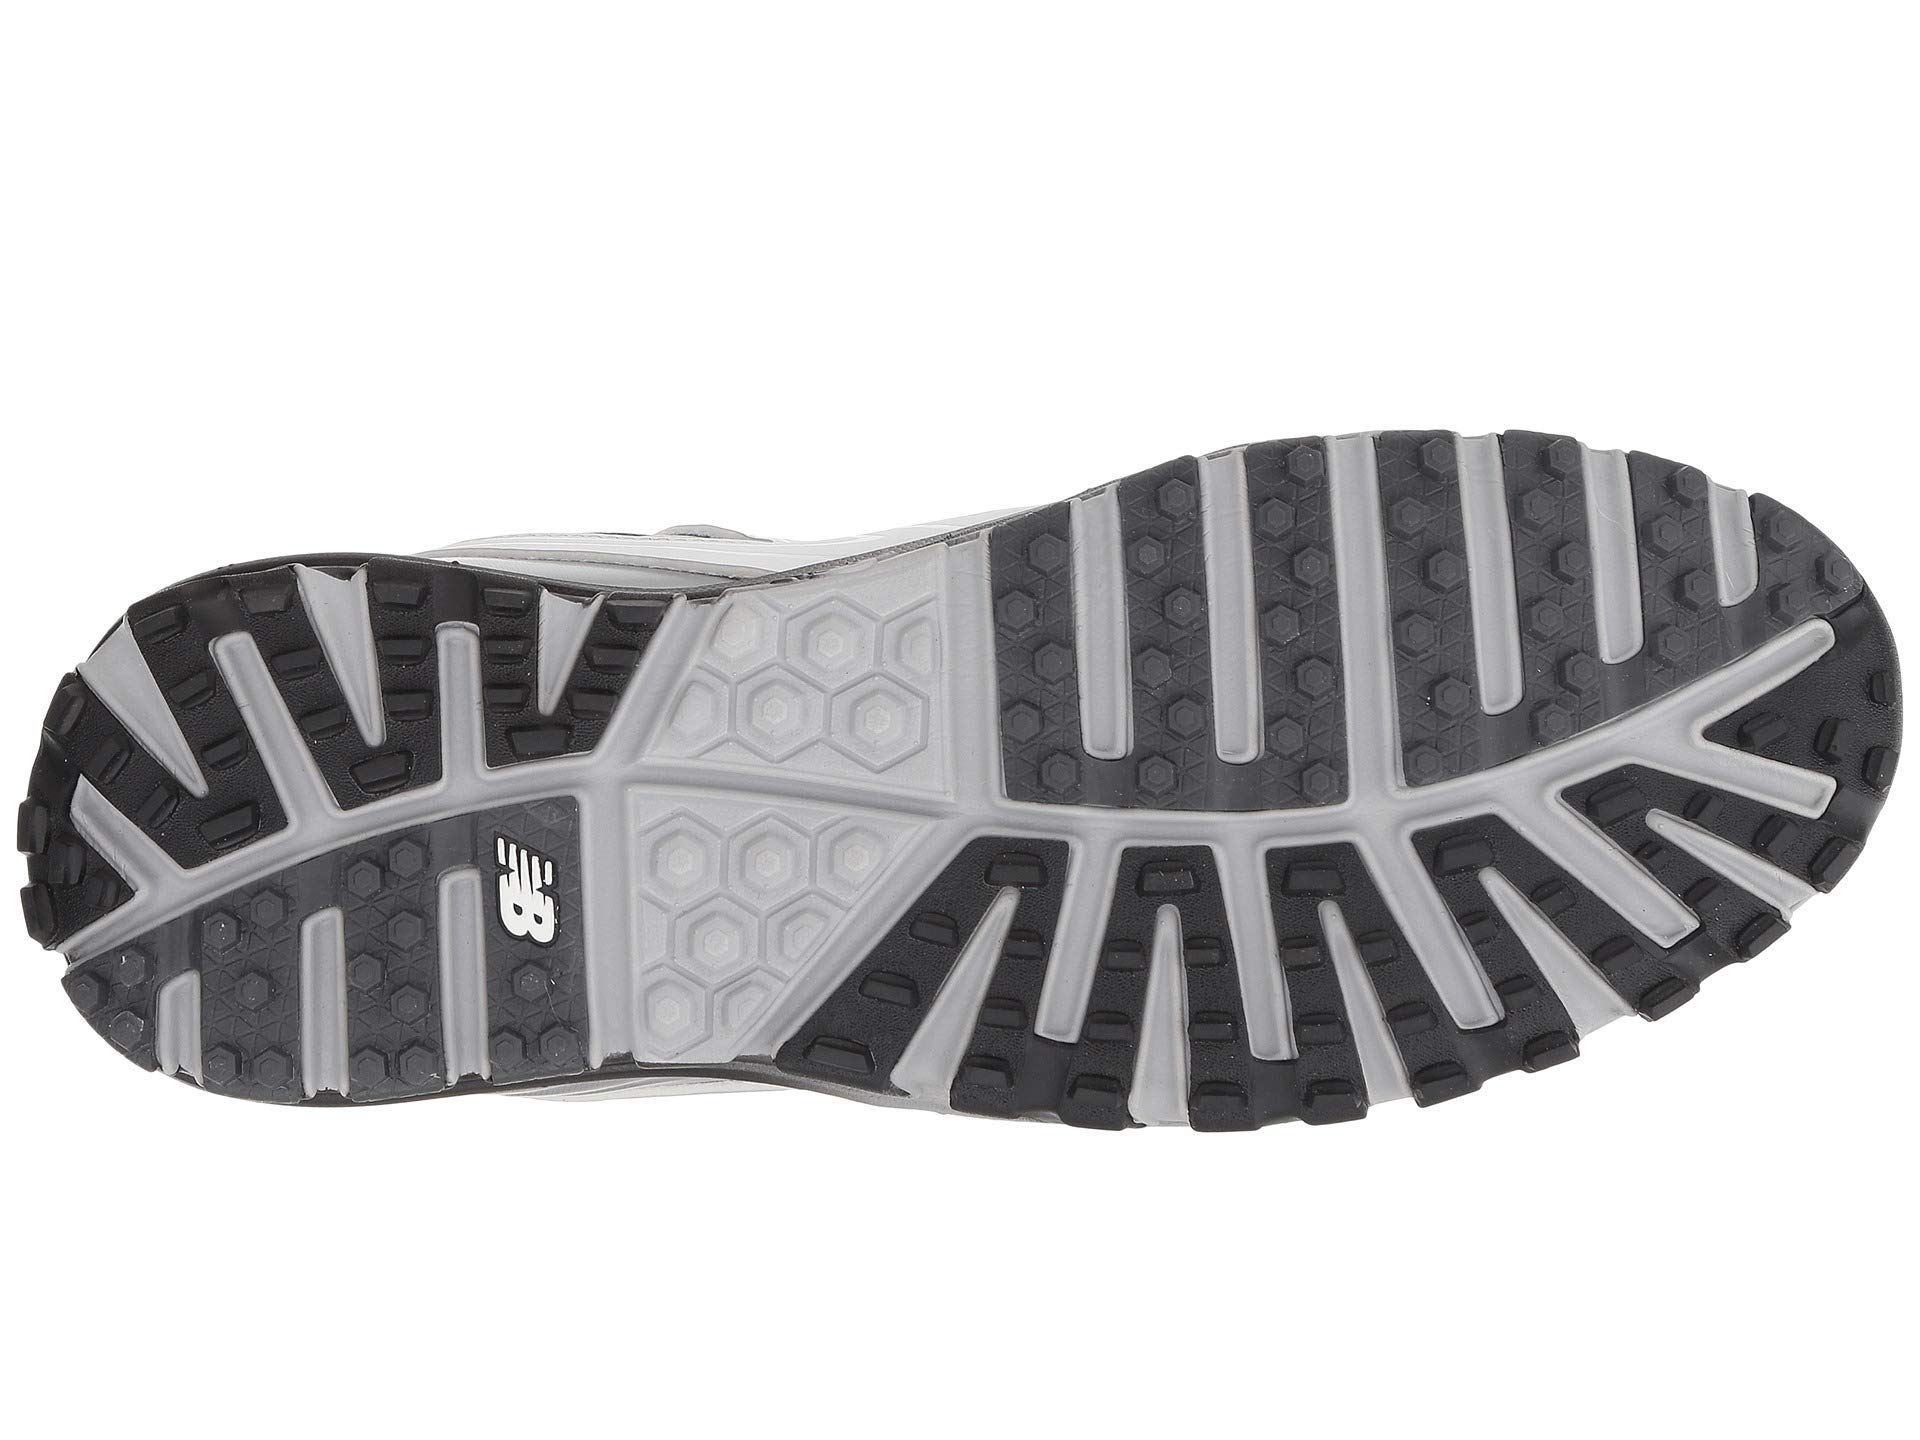polygon: (1468, 408, 1834, 725), (977, 499, 1240, 827), (661, 610, 949, 867), (259, 823, 494, 1001)
quad: (1468, 408, 1834, 725), (977, 499, 1240, 827), (463, 570, 682, 764), (259, 823, 494, 1001)
triangle: (463, 570, 682, 764)
